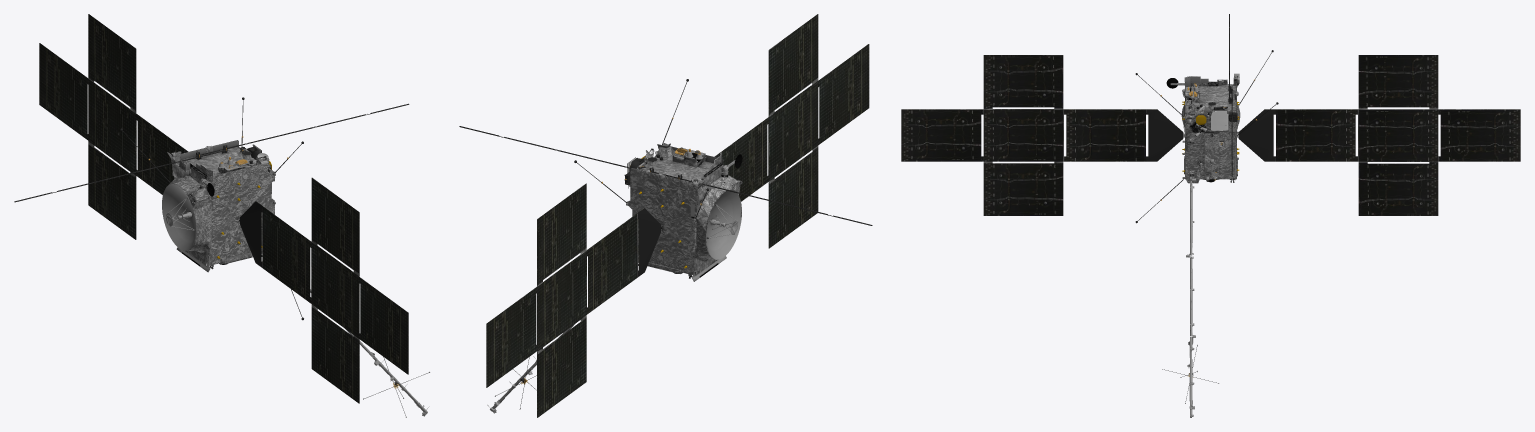
The model's file is juice.glb.
The picture shows the model from 3 angles, left to right: view 1: azimuth 30°, elevation 25°; view 2: azimuth 150°, elevation 25°; view 3: azimuth 270°, elevation 25°; orthographic projection. The views are drawn at different scales.
Parts seen in each view (by area): view 1: 3DSMesh_0 (×4); view 2: 3DSMesh_0 (×3); view 3: 3DSMesh_0 (×4).
Boxes of the visible parts, x1,y1,x2,y2 form: 3DSMesh_0 (×4): (14,14,429,417); 3DSMesh_0 (×3): (459,14,872,417); 3DSMesh_0 (×4): (901,14,1520,417).
Size of the model in its own units: 16.6 by 13.63 by 26.76.
5 materials, 3 textured.
